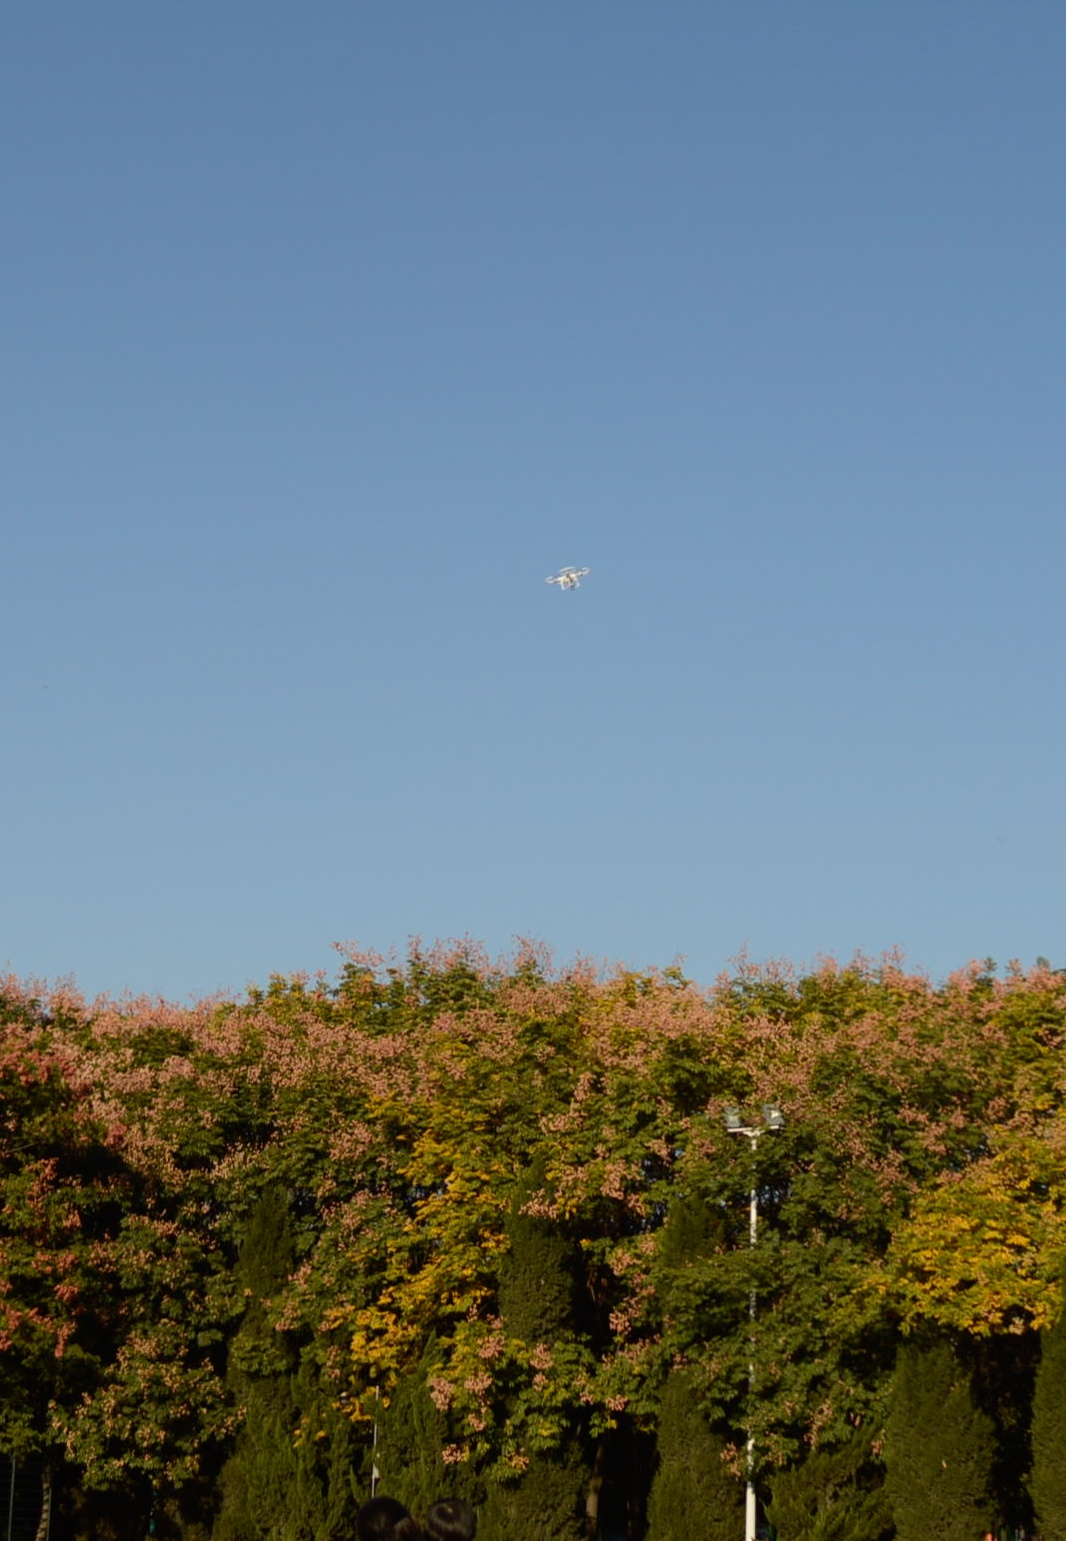DJI: (544, 566, 590, 593)
